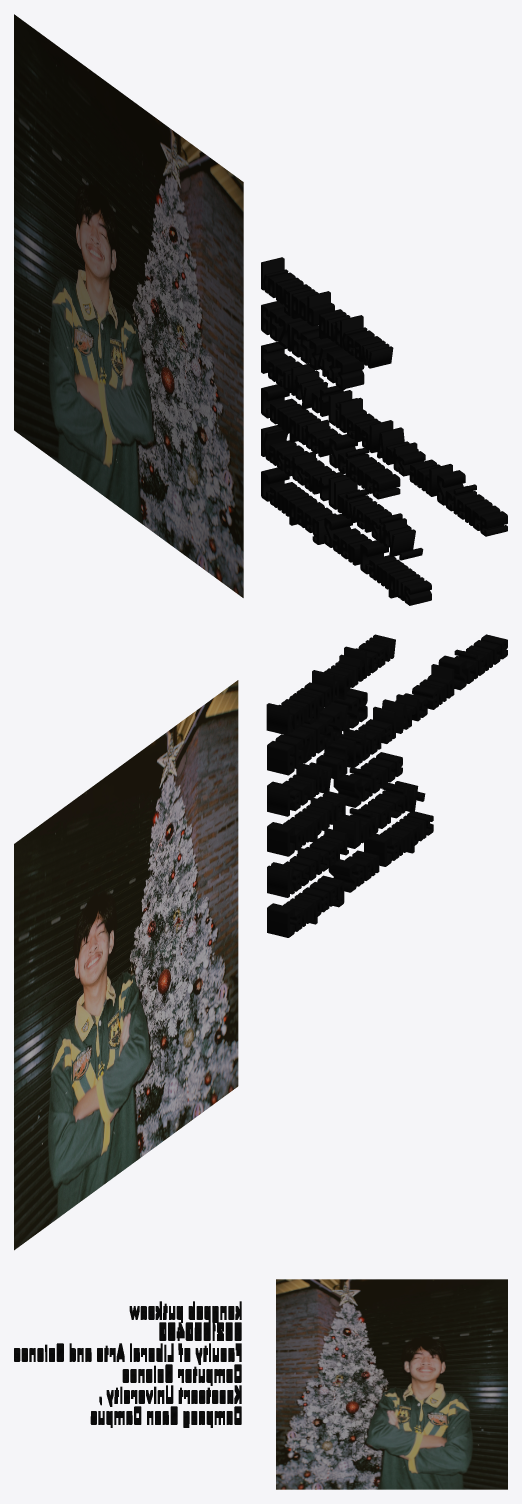
The model's file is nameboard.obj.
The picture shows the model from 3 angles, top to bottom: view 1: azimuth 30°, elevation 25°; view 2: azimuth 150°, elevation 25°; view 3: azimuth 270°, elevation 25°; orthographic projection. The views are drawn at different scales.
Visible parts, largest first — view 1: Plane, Text; view 2: Plane, Text; view 3: Plane, Text.
Boxes of the visible parts, bbox=[...] form: Plane: bbox=[14, 14, 243, 597]; Text: bbox=[261, 257, 507, 605]; Plane: bbox=[14, 680, 238, 1250]; Text: bbox=[266, 634, 507, 937]; Plane: bbox=[276, 1279, 507, 1489]; Text: bbox=[14, 1301, 241, 1427].
Size of the model in its own units: 1.08 by 20 by 42.6.
2 materials, 1 textured.
